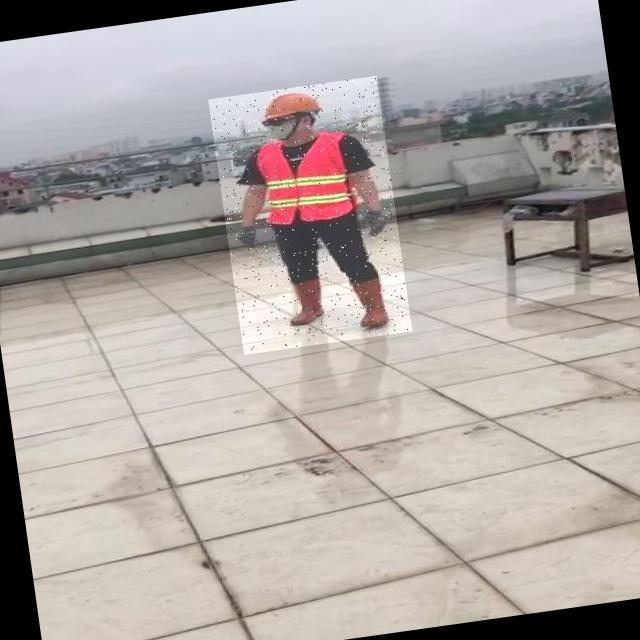Gloves: (363, 209, 389, 238), (235, 224, 260, 249)
Helmet: (259, 88, 324, 125)
Human: (209, 76, 413, 355)
Safety Boot: (348, 275, 393, 332), (283, 280, 328, 329)
Safety Vest: (257, 131, 356, 229)
